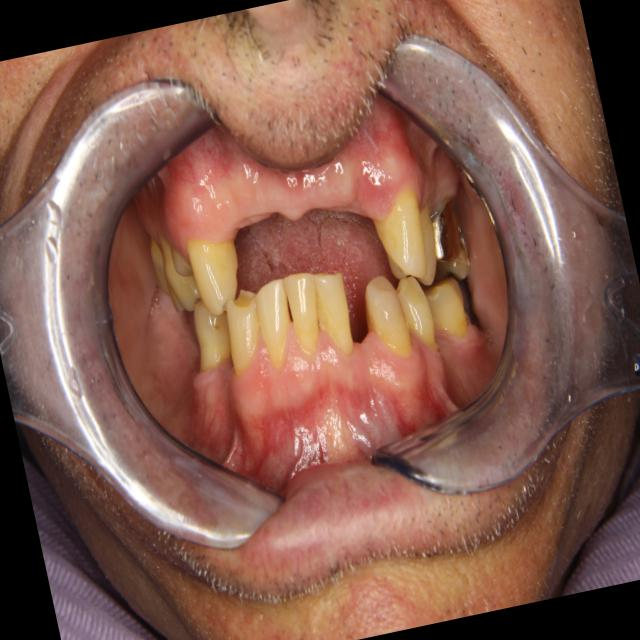tooth: (361, 174, 438, 298), (352, 258, 425, 379), (175, 220, 253, 329), (299, 249, 365, 374), (246, 273, 310, 377), (419, 266, 487, 361), (218, 286, 282, 384), (180, 288, 245, 384), (276, 257, 332, 368), (383, 258, 444, 358), (417, 176, 470, 275), (156, 234, 208, 321), (407, 189, 449, 291), (424, 214, 480, 290), (142, 228, 175, 302), (165, 235, 203, 289)
